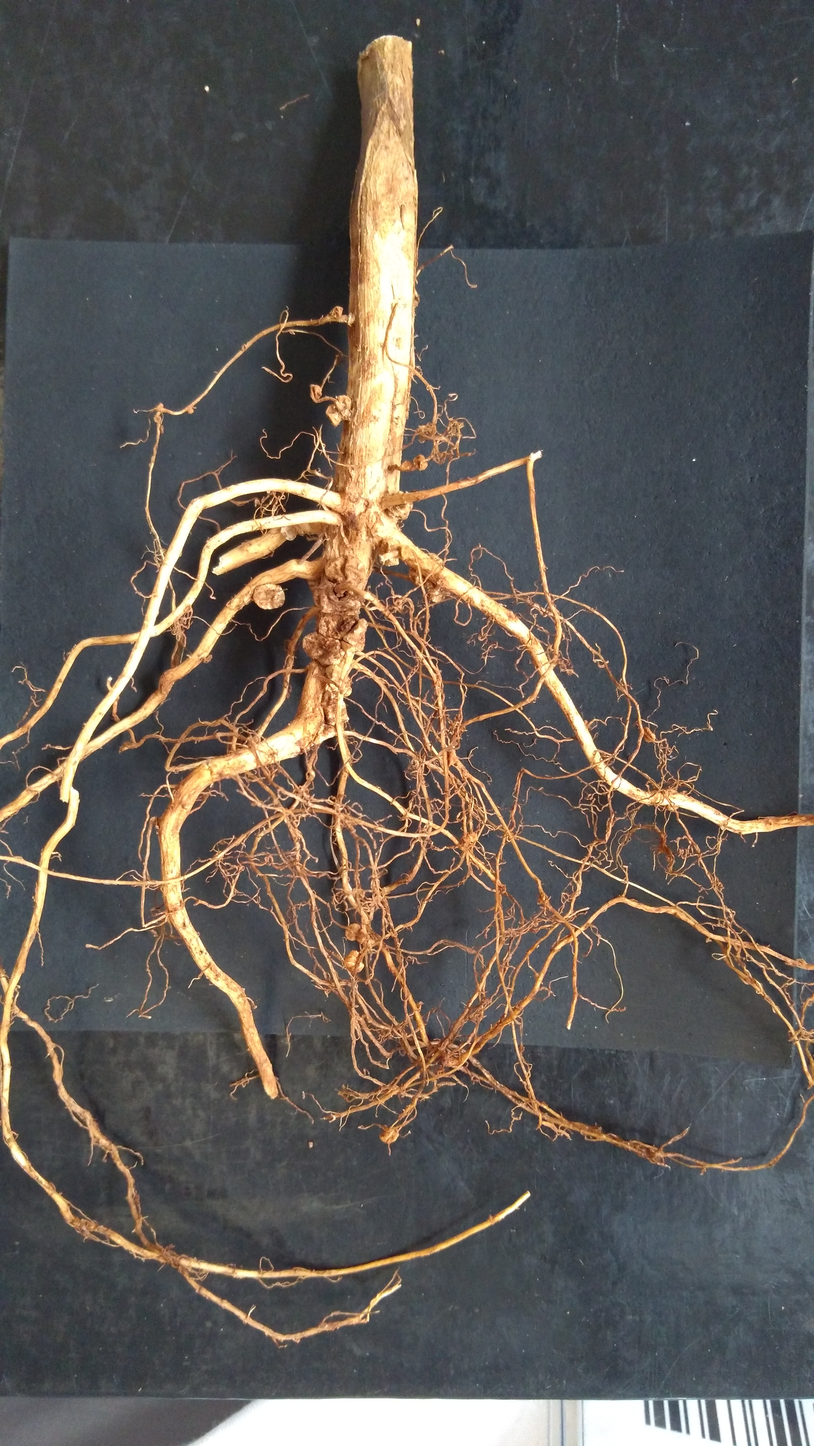nodule: (307, 577, 366, 617), (299, 630, 346, 667), (249, 578, 292, 612), (316, 611, 357, 642), (317, 689, 350, 727), (341, 616, 370, 654), (387, 488, 415, 523), (320, 554, 349, 584), (311, 720, 340, 748), (374, 545, 404, 572), (343, 947, 366, 977), (377, 1125, 403, 1147), (323, 401, 343, 427), (413, 420, 437, 440), (425, 585, 449, 605), (333, 393, 353, 413), (343, 922, 362, 943), (406, 566, 425, 587), (423, 550, 445, 567), (279, 523, 297, 543), (307, 381, 324, 401), (640, 725, 657, 744), (413, 452, 429, 472), (328, 303, 346, 320), (399, 457, 415, 473), (353, 928, 366, 944)
